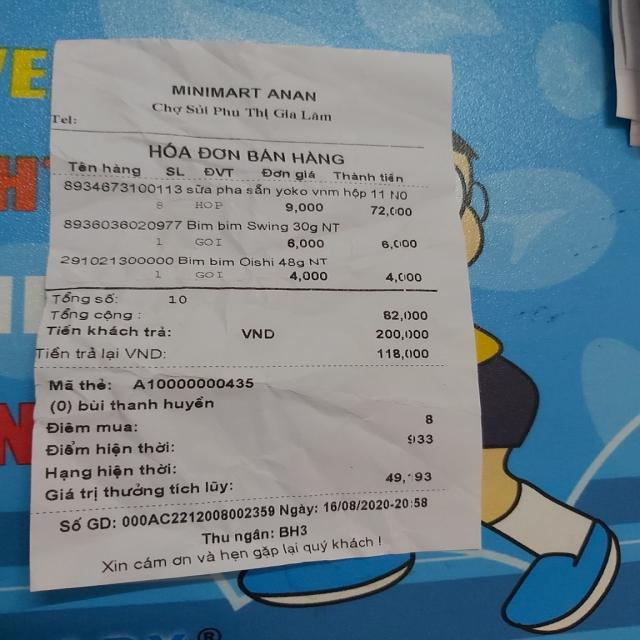Date: (322, 494, 389, 513)
Store_Name: (170, 80, 318, 106)
amount_number: (377, 307, 431, 323)
label_total: (50, 307, 135, 323)
